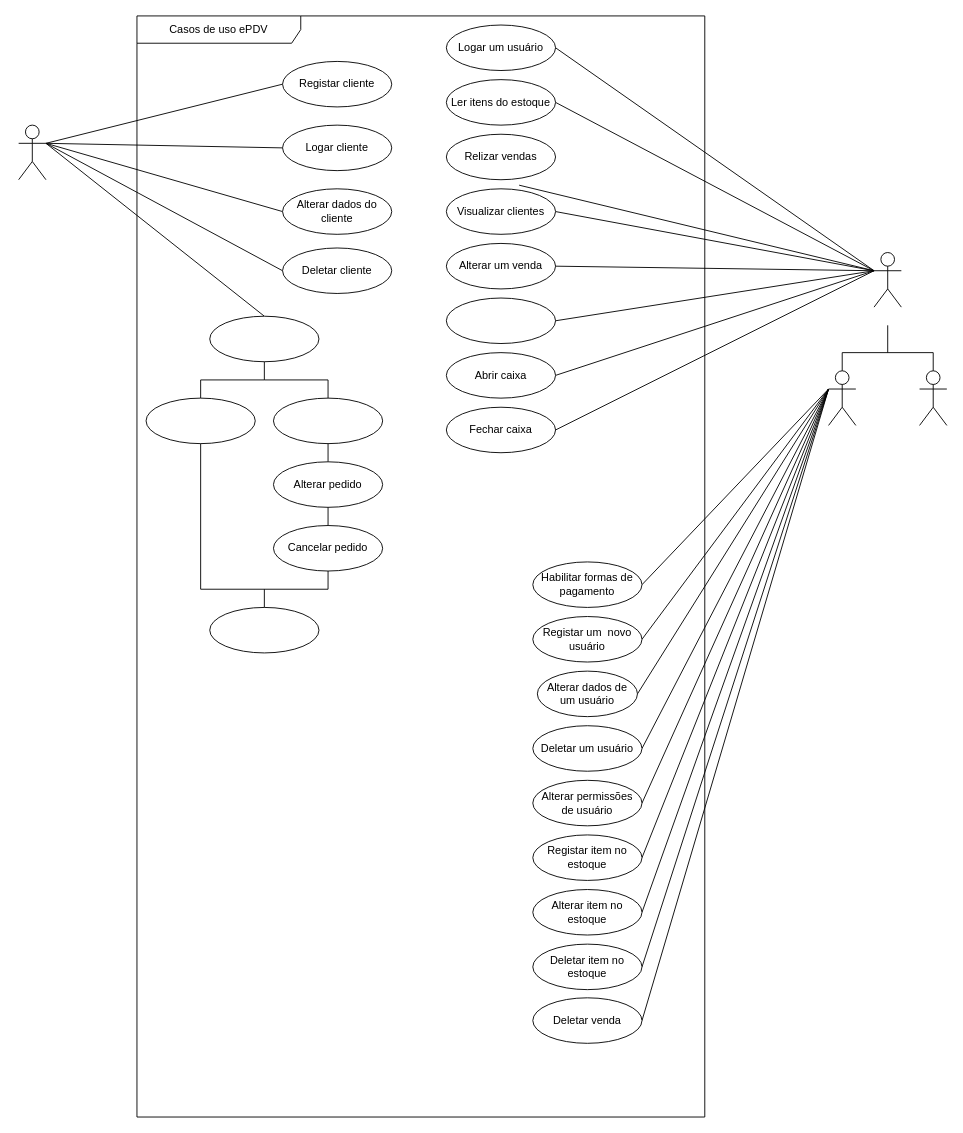
The diagram is 963 pixels wide and 1133 high, and some of its shapes have lost their labels. The shapes that lost their labels are listed below. From the top down, each one's box as (x1, y1, x2, y2) in pixels, then its label:
(18, 124, 46, 180): Cliente
(873, 252, 901, 307): Funcionario
(209, 315, 319, 362): Pedidos
(445, 297, 556, 344): Ver vendas feitas
(828, 370, 856, 425): Gerente
(919, 370, 947, 425): Caixa
(145, 397, 255, 444): Pedido presencial
(273, 397, 383, 444): Pedido online
(209, 607, 319, 653): Realizar pagamento do pedido
